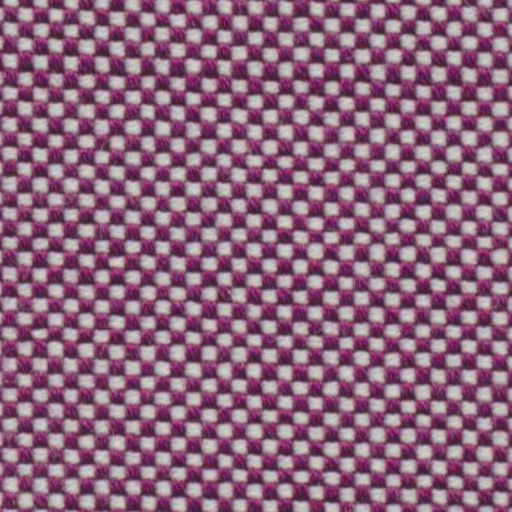TuoSha: (5, 31, 496, 128)
